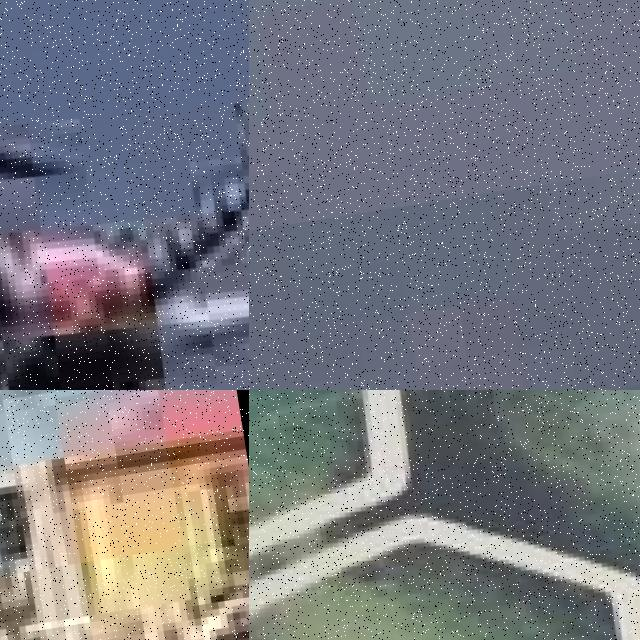0: (0, 0, 249, 390)
drone: (249, 390, 640, 640)
